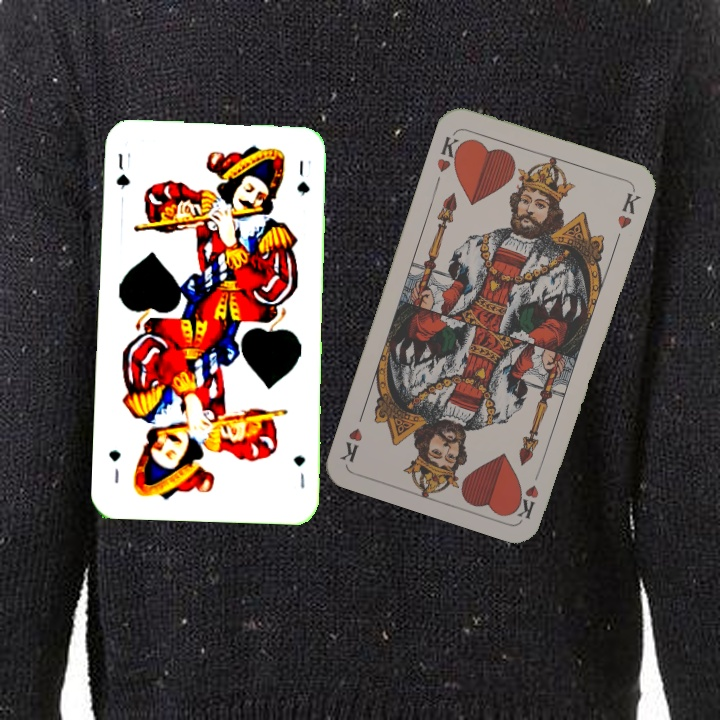GU: (112, 149, 133, 192), (289, 451, 308, 491)
HK: (513, 463, 545, 521), (433, 129, 467, 175)
